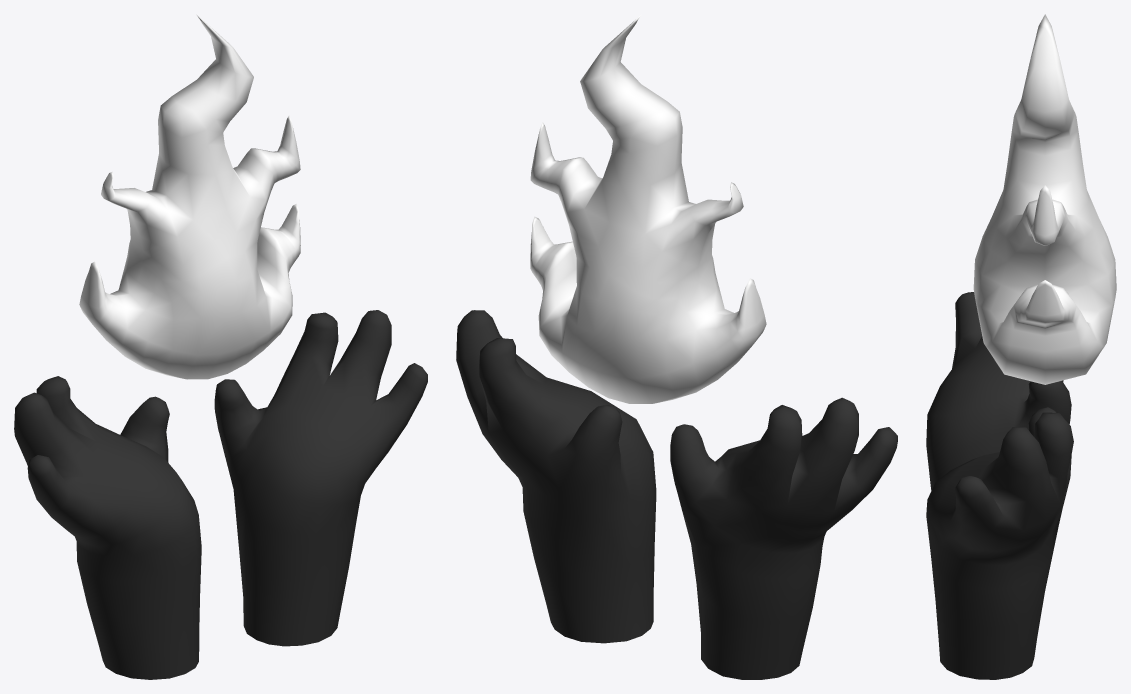
The model's file is fire-hands.glb.
3 renders of one model, left to right at view 1: azimuth 30°, elevation 25°; view 2: azimuth 150°, elevation 25°; view 3: azimuth 270°, elevation 25°, orthographic. The views are drawn at different scales.
Parts seen in each view (by area): view 1: Fire hands icon; view 2: Fire hands icon; view 3: Fire hands icon.
Part boxes in pixels (left/top/right/bottom): Fire hands icon: left=14, top=14, right=427, bottom=679; Fire hands icon: left=456, top=14, right=897, bottom=679; Fire hands icon: left=926, top=14, right=1116, bottom=679.
Size of the model in its own units: 2.05 by 3.01 by 0.8476.
Materials: 2 (2 with a texture image).
